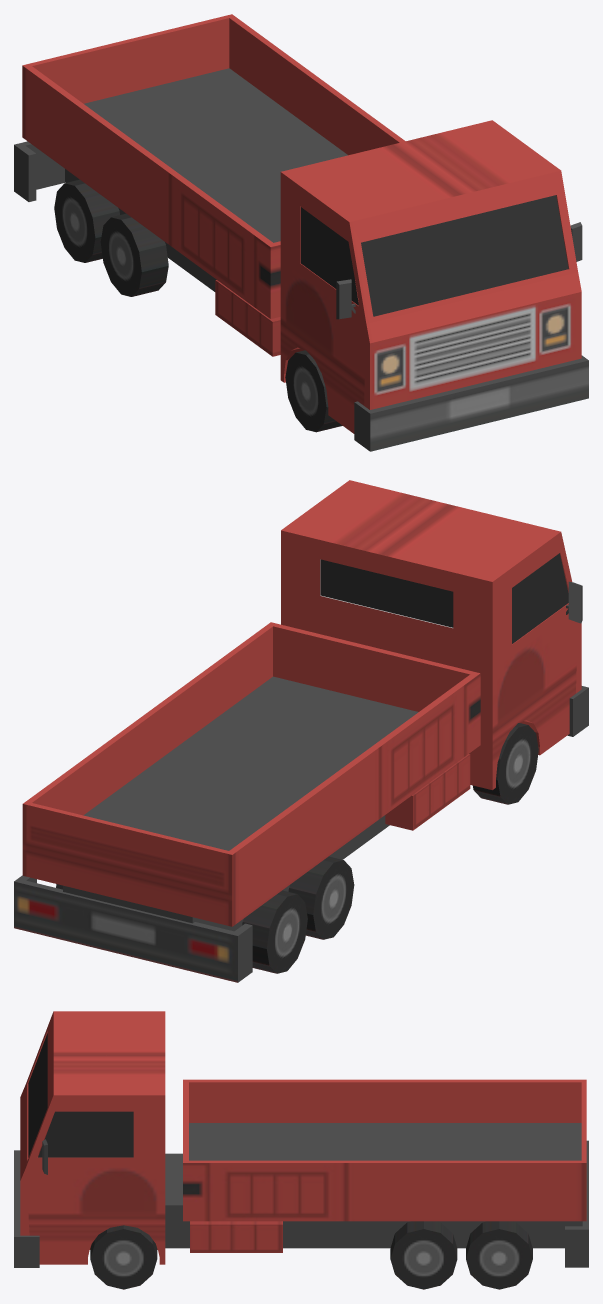
File: Vehicle_Truck.fbx
The picture shows the model from 3 angles, top to bottom: view 1: azimuth 30°, elevation 25°; view 2: azimuth 150°, elevation 25°; view 3: azimuth 270°, elevation 25°; orthographic projection. The views are drawn at different scales.
Visible parts, largest first — view 1: Vehicle_Truck; view 2: Vehicle_Truck; view 3: Vehicle_Truck.
Part boxes in pixels (x1=…): Vehicle_Truck: x1=14, y1=14, x2=588, y2=451; Vehicle_Truck: x1=14, y1=480, x2=588, y2=982; Vehicle_Truck: x1=14, y1=1011, x2=588, y2=1289.
Size of the model in its own units: 363 by 339 by 910.
